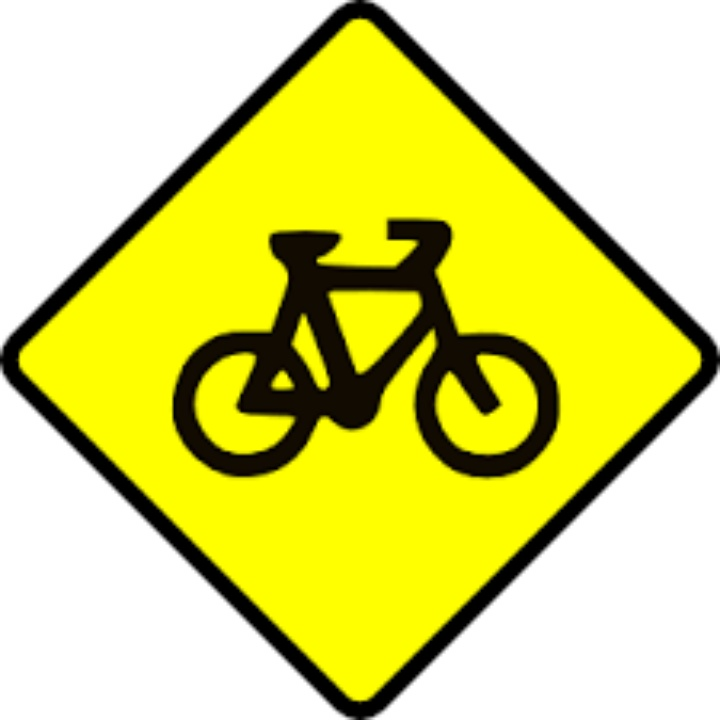bicycle: (169, 219, 561, 477)
